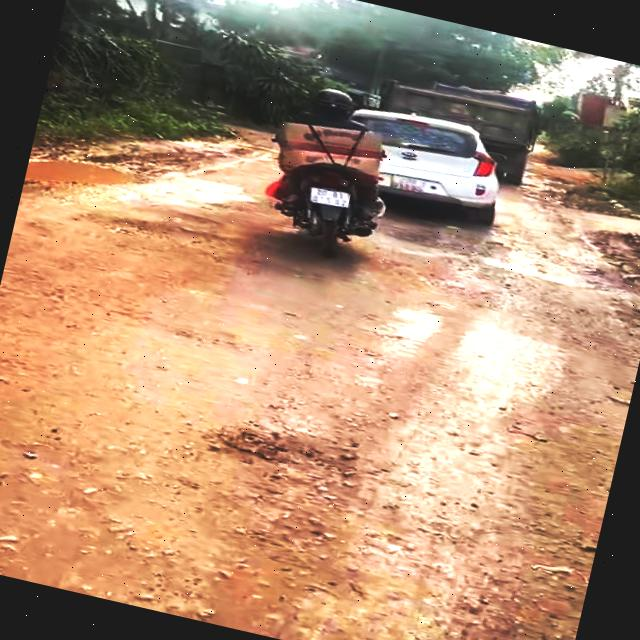pothole: (19, 142, 153, 229)
